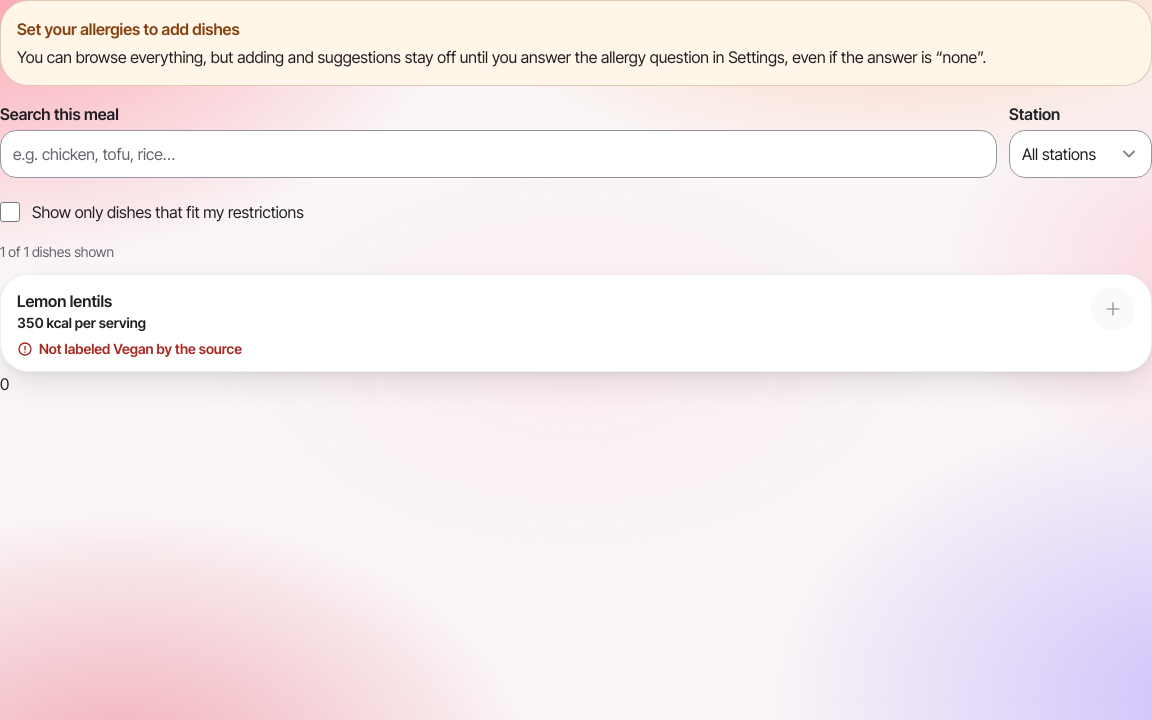
Test: compact menu interaction › preserves the unanswered allergy gate while allowing dish browsing
Expected: the text "Set your allergies to add dishes" is shown, [17, 19, 240, 39]
Expected: the text "Not labeled Vegan by the source" is shown, [39, 339, 242, 359]
Click the button "Lemon lentils 350 kcal per serving".
click(65, 301)  # box [17, 287, 1079, 335]
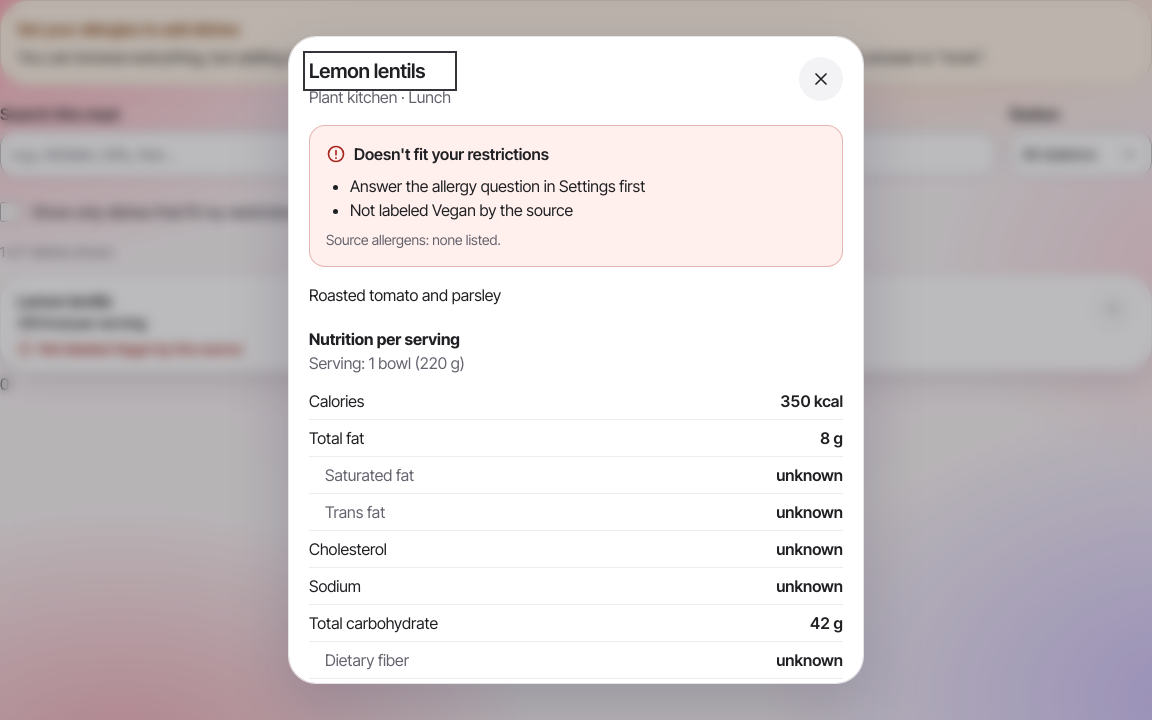
Expected: the dialog "Lemon lentils" is shown, [288, 36, 864, 684]
Expected: the text "Doesn't fit your restrictions" is shown, [326, 144, 549, 164]
Expected: the list item "Not labeled Vegan by the source" is shown, [350, 200, 573, 220]
